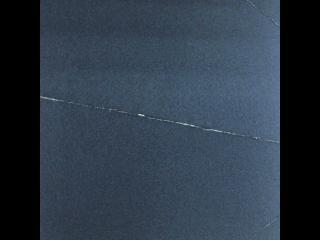crack: (40, 76, 281, 162)
